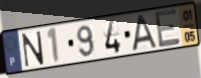1: (46, 26, 60, 66)
4: (104, 19, 123, 55)
9: (75, 23, 96, 59)
A: (131, 13, 158, 53)
E: (153, 7, 182, 50)
N: (21, 30, 45, 69)
